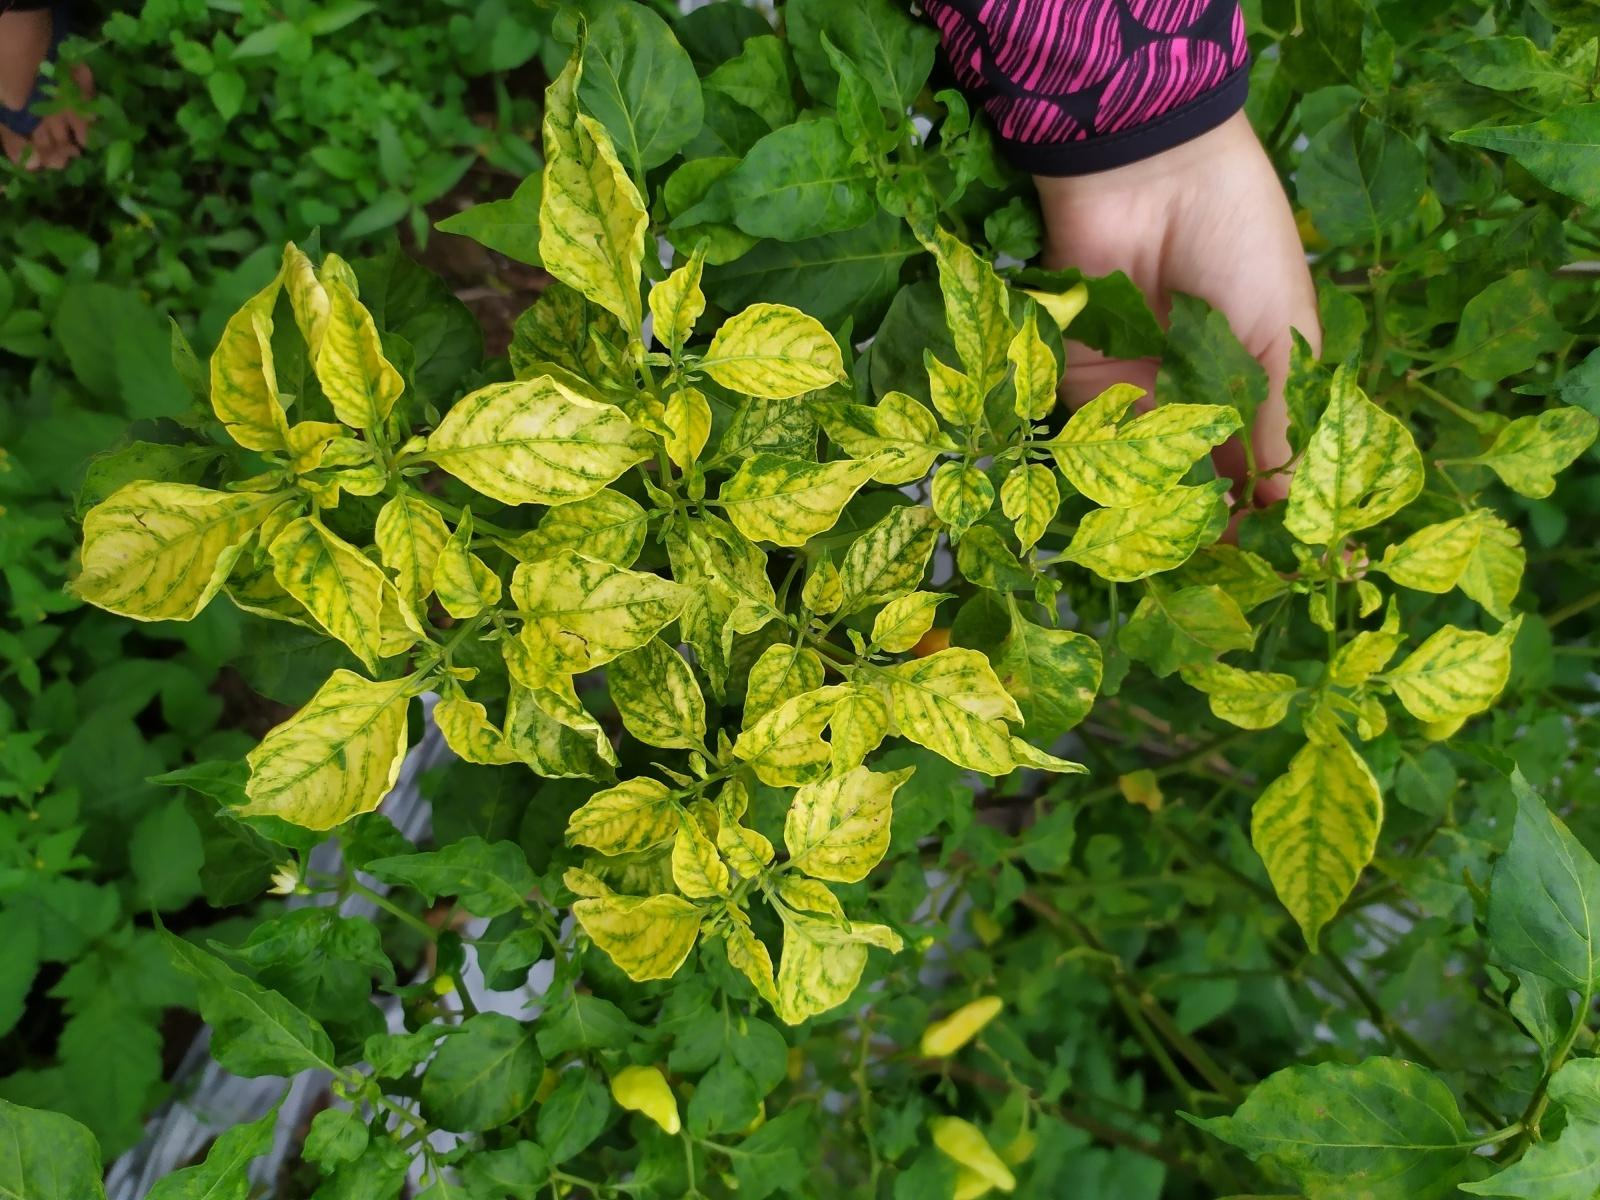cabai_normal: (931, 1114, 1017, 1192), (921, 995, 1004, 1059), (611, 1064, 682, 1134)
